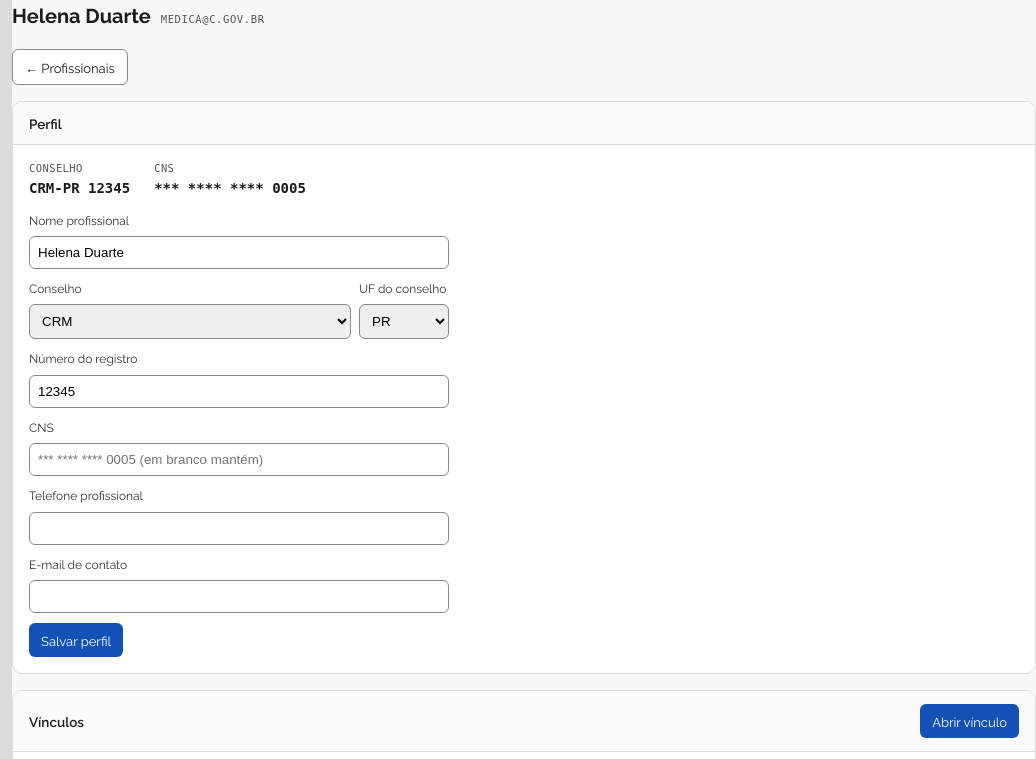
Test: ProfessionalDetail › sem janela: pede código antes de abrir
Step 1. Click the button "Abrir vínculo" → (970, 721), box [920, 704, 1019, 738]
(page scrolled)
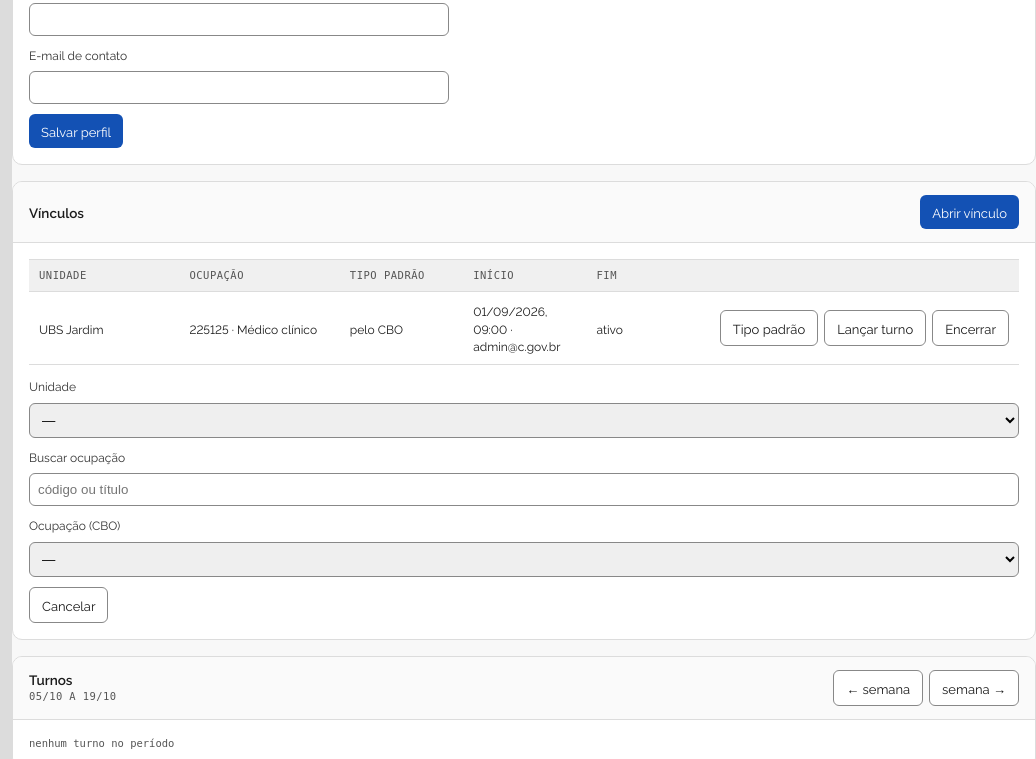
Step 2. Select "UPA Centro" in the dropdown labelled "Unidade" → (524, 420), box [29, 403, 1019, 438]
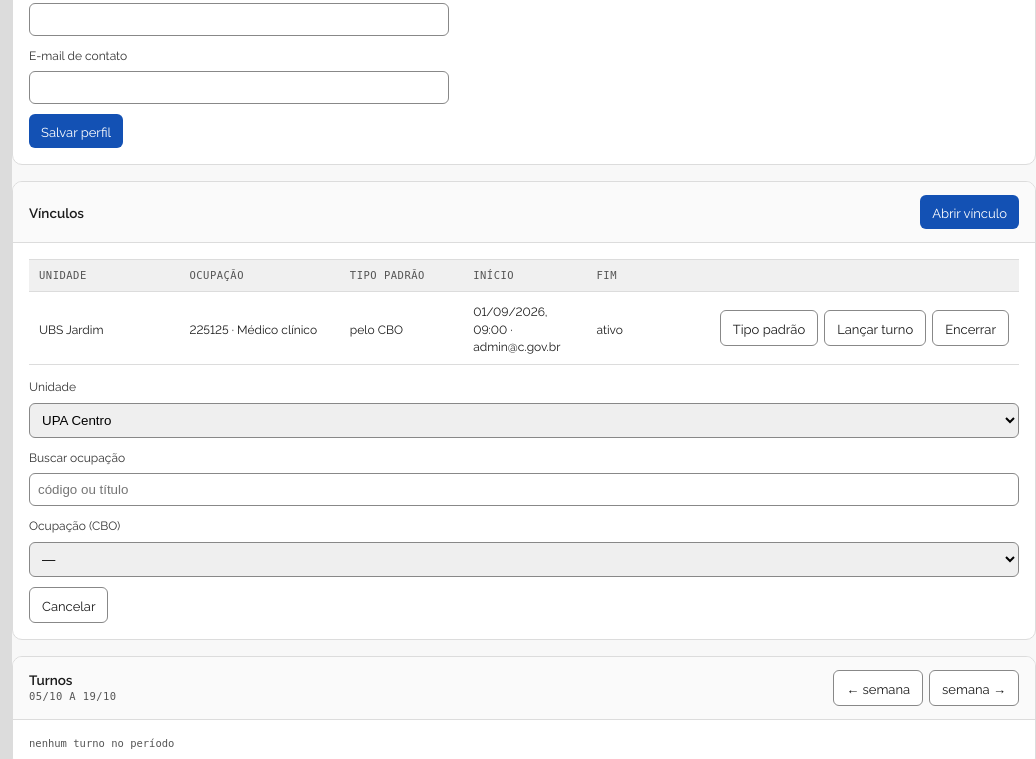
Step 3. Select "225124 · Médico pediatra" in the dropdown labelled "Ocupação (CBO)" → (524, 559), box [29, 542, 1019, 577]
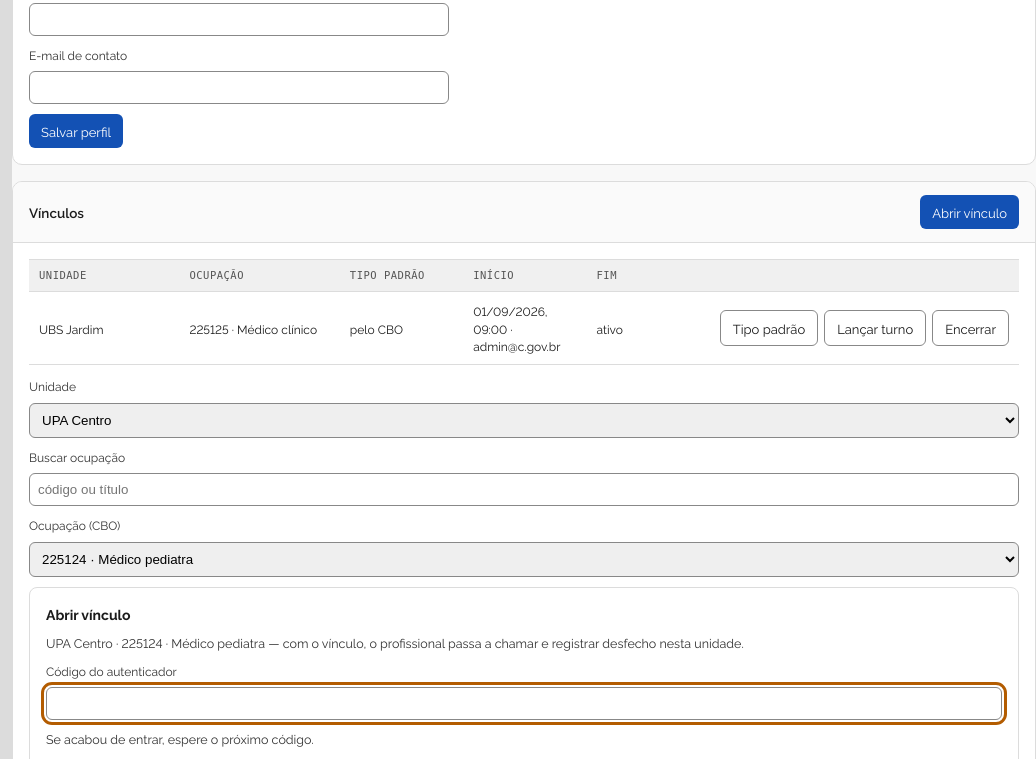
expect the field labelled "Código do autenticador" is shown: met, box [46, 687, 1002, 720]
